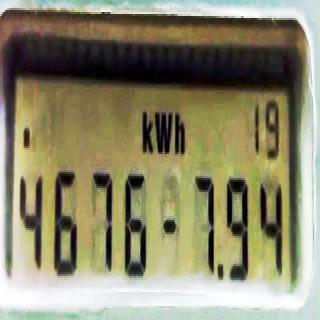-: (164, 211, 177, 240), (21, 122, 32, 154), (218, 256, 225, 284)
1: (253, 98, 262, 161)
4: (18, 165, 45, 278), (259, 174, 285, 280)
6: (52, 159, 79, 284), (123, 160, 149, 287)
7: (91, 164, 115, 283), (194, 162, 216, 280)
9: (225, 170, 250, 289), (264, 93, 282, 166)
